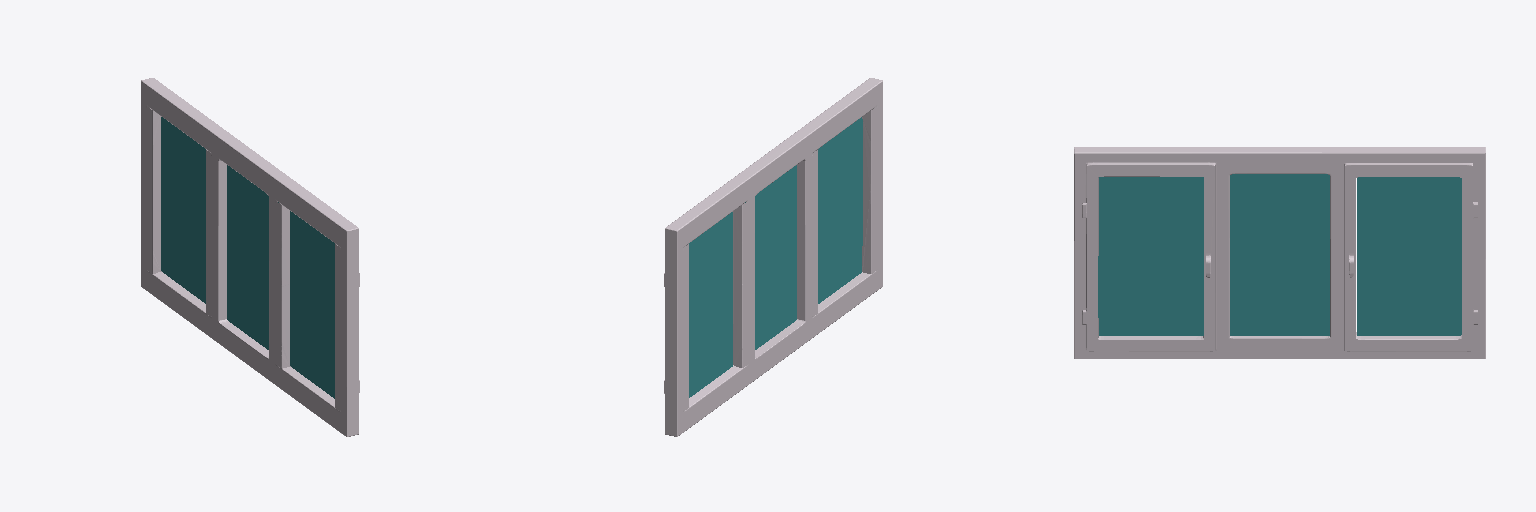
File: Window.obj
3 renders of one model, left to right at view 1: azimuth 30°, elevation 25°; view 2: azimuth 150°, elevation 25°; view 3: azimuth 270°, elevation 25°, orthographic.
Visible parts, largest first — view 1: Window_Cube.001, Glass_Cube.000; view 2: Window_Cube.001, Glass_Cube.000; view 3: Glass_Cube.000, Window_Cube.001.
Part boxes in pixels (bbox=[...]): Window_Cube.001: bbox=[141, 78, 359, 436]; Glass_Cube.000: bbox=[161, 117, 334, 398]; Window_Cube.001: bbox=[664, 78, 882, 436]; Glass_Cube.000: bbox=[689, 117, 862, 397]; Glass_Cube.000: bbox=[1098, 174, 1461, 335]; Window_Cube.001: bbox=[1074, 147, 1485, 358].
Size of the model in its own units: 0.6903 by 5.52 by 9.97.